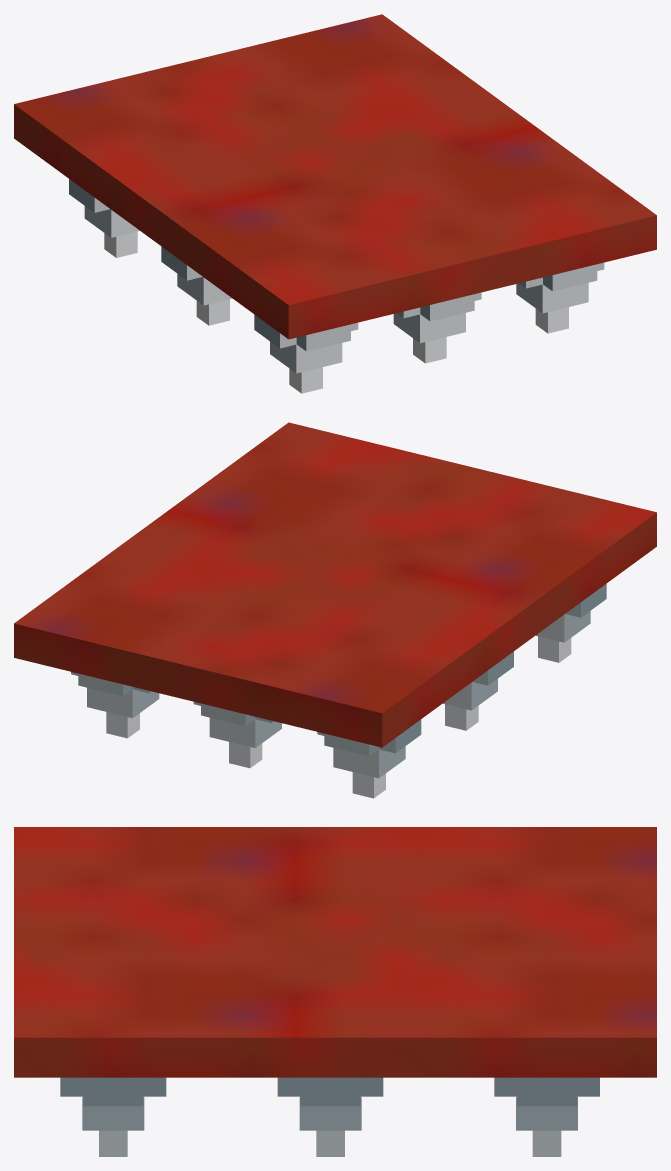
File: trap_lavamap.fbx
The picture shows the model from 3 angles, top to bottom: view 1: azimuth 30°, elevation 25°; view 2: azimuth 150°, elevation 25°; view 3: azimuth 270°, elevation 25°; orthographic projection. The views are drawn at different scales.
Parts seen in each view (by area): view 1: trap_lavamap; view 2: trap_lavamap; view 3: trap_lavamap.
Part boxes in pixels (box(x1,y1,x2,y2)): trap_lavamap: box(14, 14, 656, 393); trap_lavamap: box(14, 422, 656, 798); trap_lavamap: box(14, 827, 656, 1156).
Bounding box in the file's own units: 70.28 × 23.18 × 90.78.
